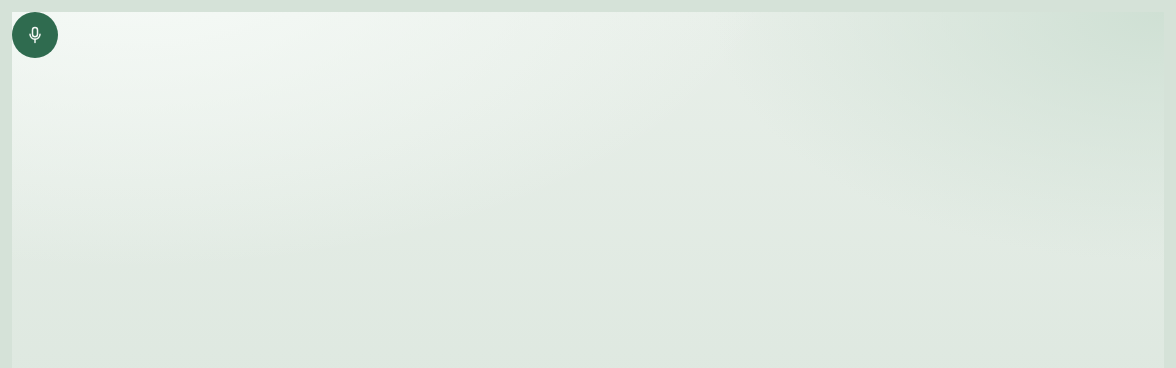
Test: microfone no compositor › Enviar e Cancelar no modo travado funcionam
Press the mouse on the button named "Toque para falar, ou segure para gravar" at (35, 35), box 12,12 -> 58,58
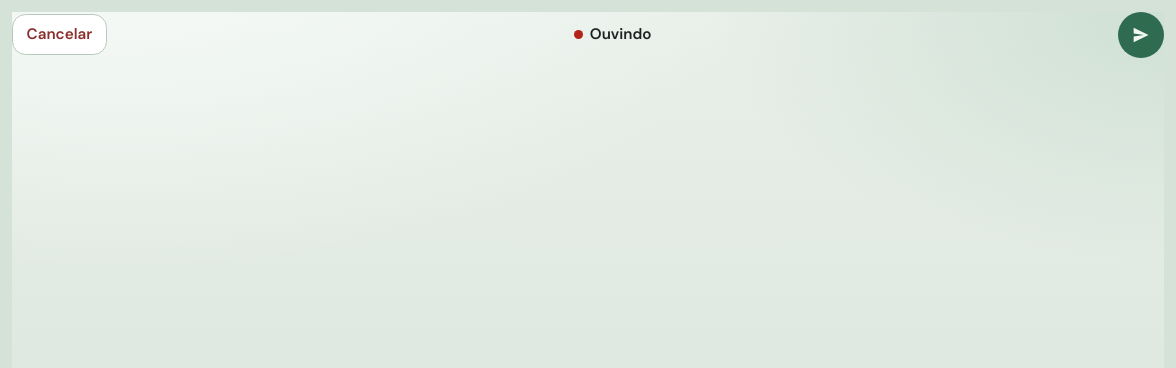
Click the button named "Enviar". click: (1141, 35)
box: 1118,12 -> 1164,58
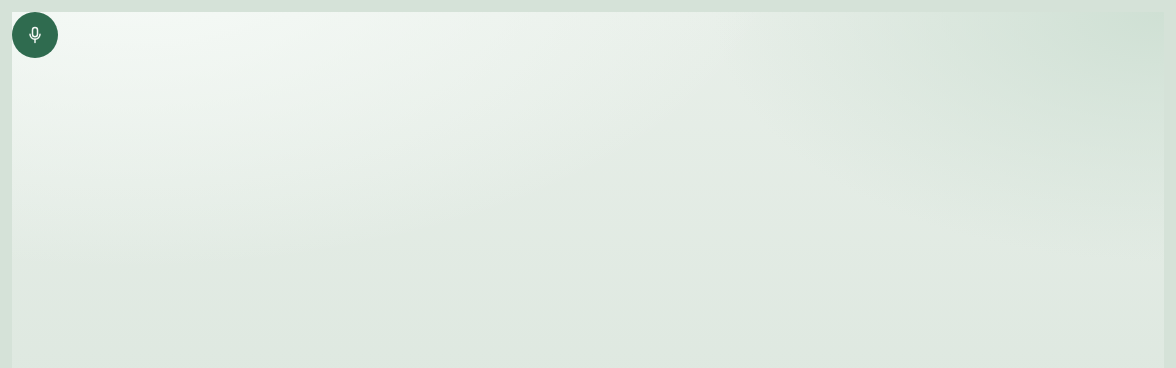
Result: the button named "Toque para falar, ou segure para gravar" is not pressed
Press the mouse on the button named "Toque para falar, ou segure para gravar" at (35, 35), box 12,12 -> 58,58
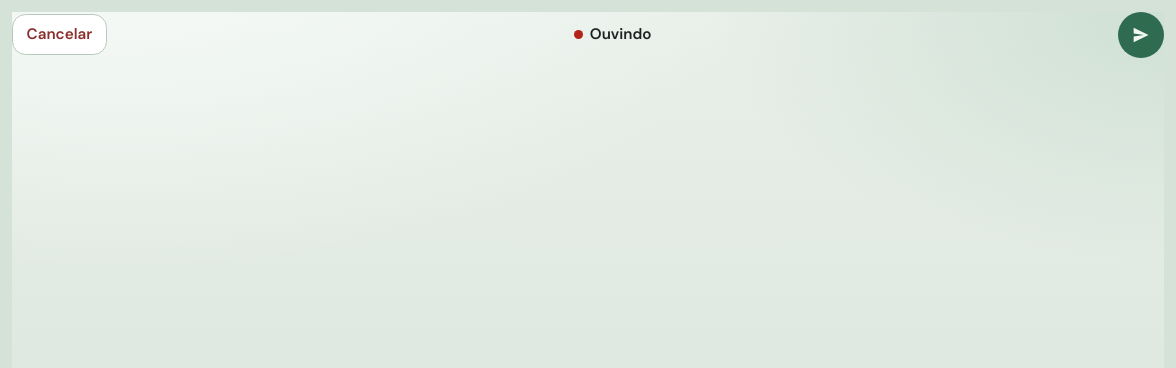
Click the button "Cancelar". click: (59, 35)
box: 12,14 -> 107,55
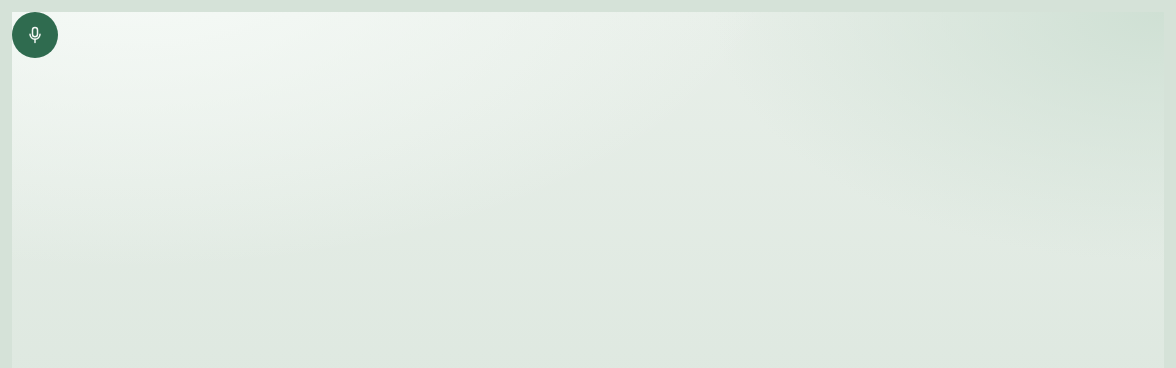
Result: the button named "Toque para falar, ou segure para gravar" is not pressed at 12,12 -> 58,58
